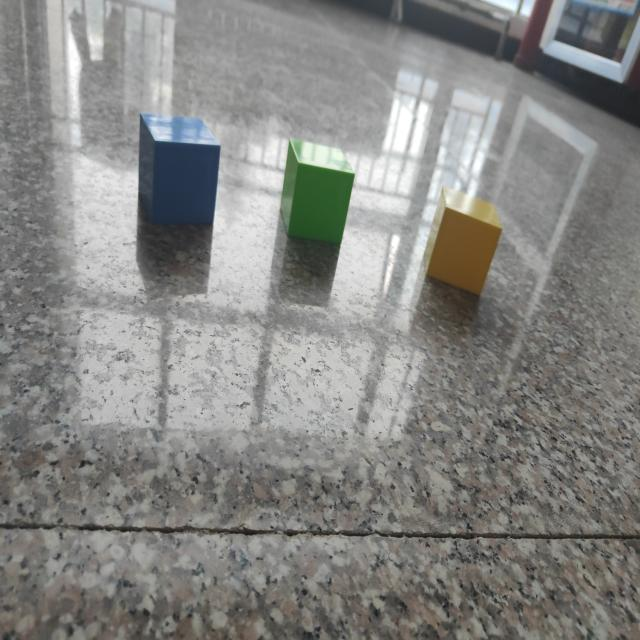blue: (137, 115, 221, 273)
green: (283, 142, 355, 246)
yellow: (420, 188, 507, 296)
